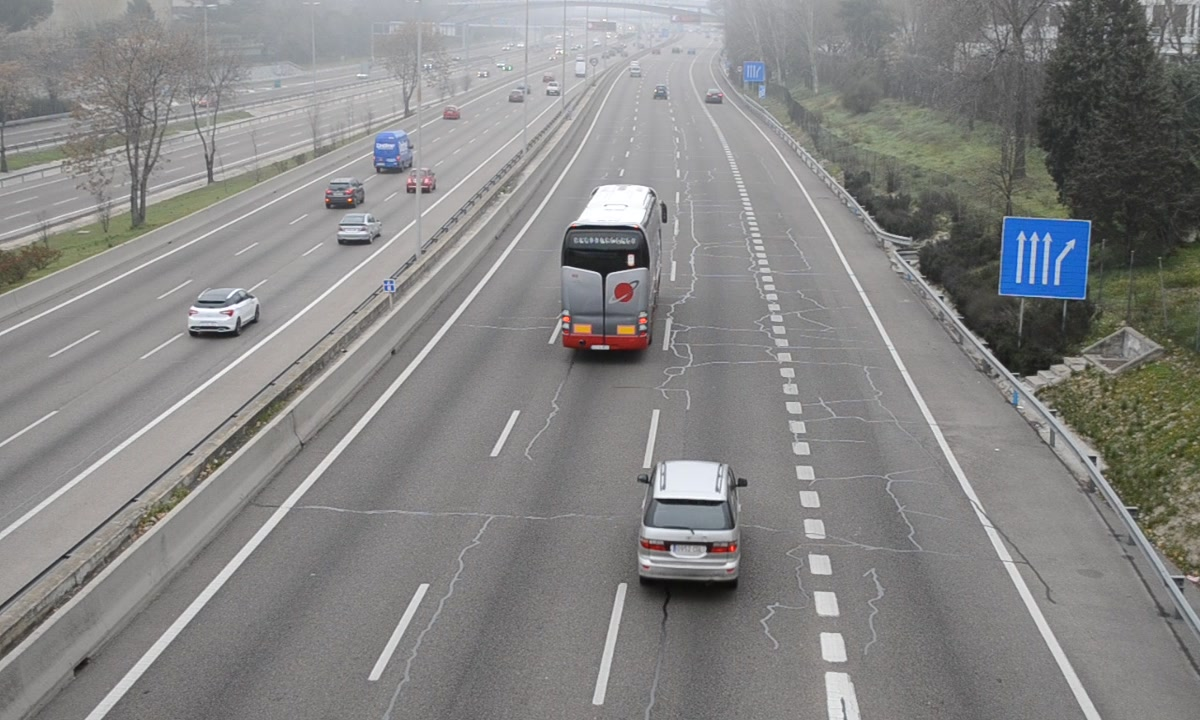bus: (559, 184, 665, 354)
car: (635, 461, 745, 587)
